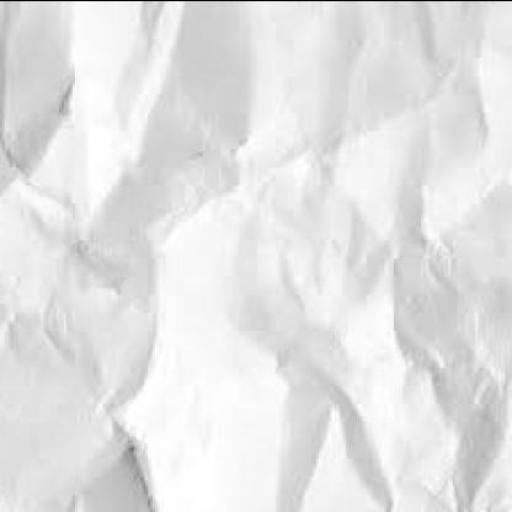paper: (2, 1, 512, 511)
